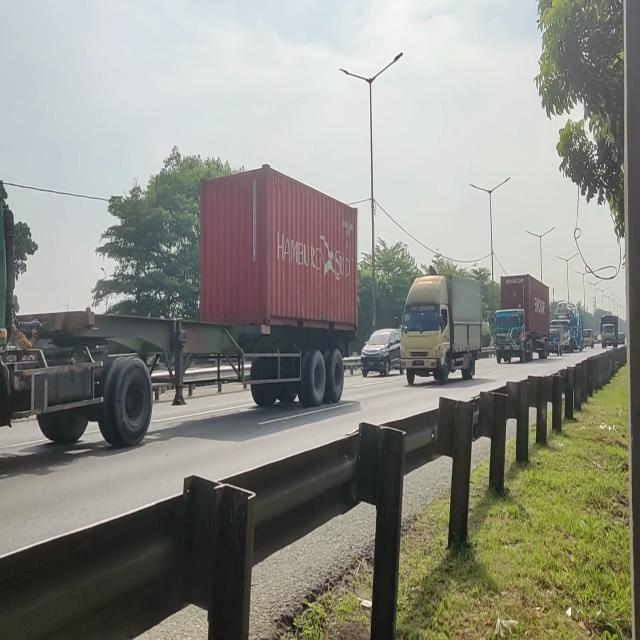Golongan II: (397, 270, 485, 393)
